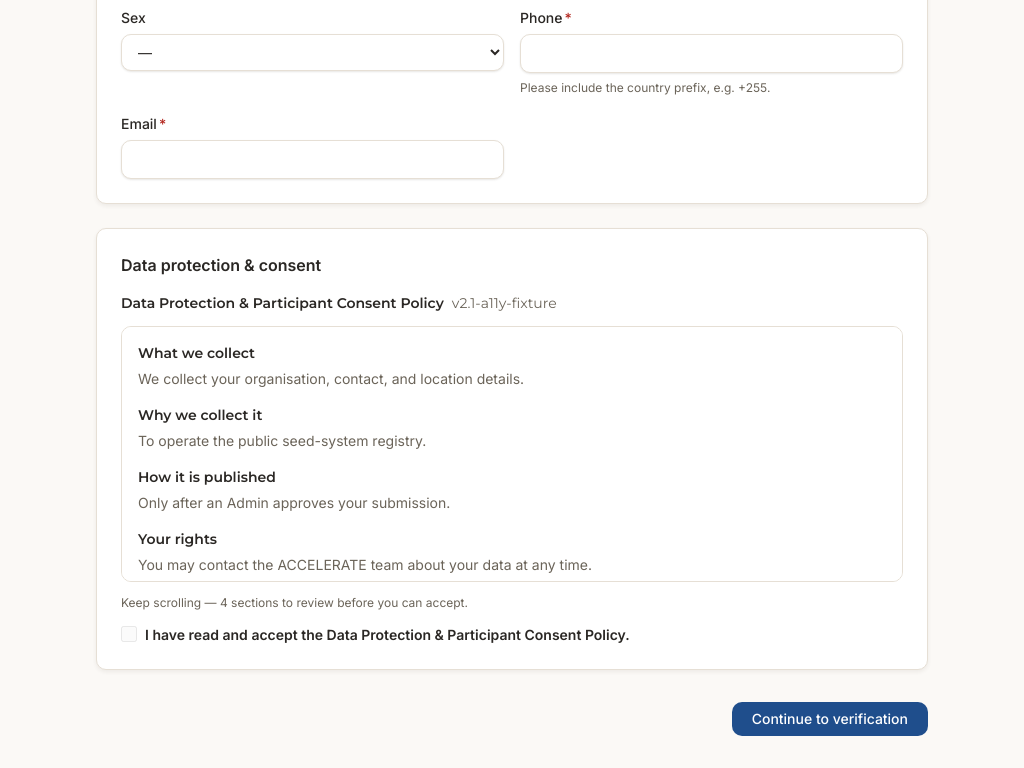
Scenario: /register — form step, whole-page axe (T-22, NFR-5, QA-11) › has no jest-axe violations with the validation-error summary shown
(page scrolled)
Expected: the heading "What we collect" is shown, [138, 344, 255, 362]
Step 1. Click the button "Continue to verification" → {"x": 830, "y": 718}, box [732, 702, 928, 736]
(page scrolled)
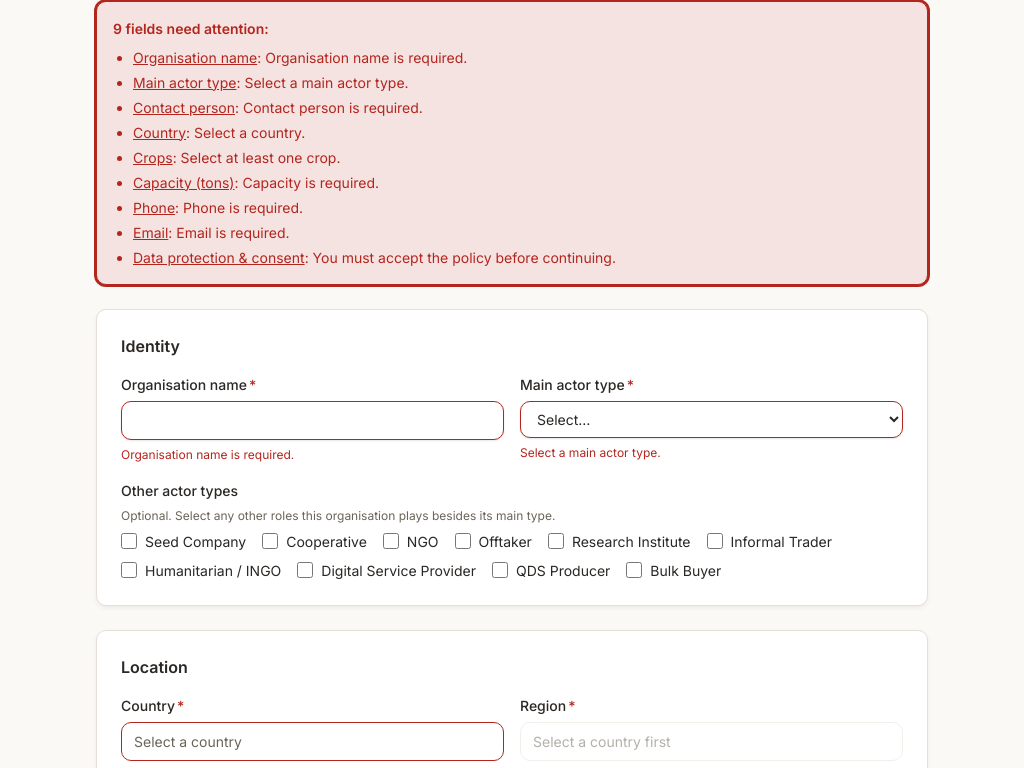
Expected: the message with test id "error-summary" is shown, [96, 0, 928, 284]
